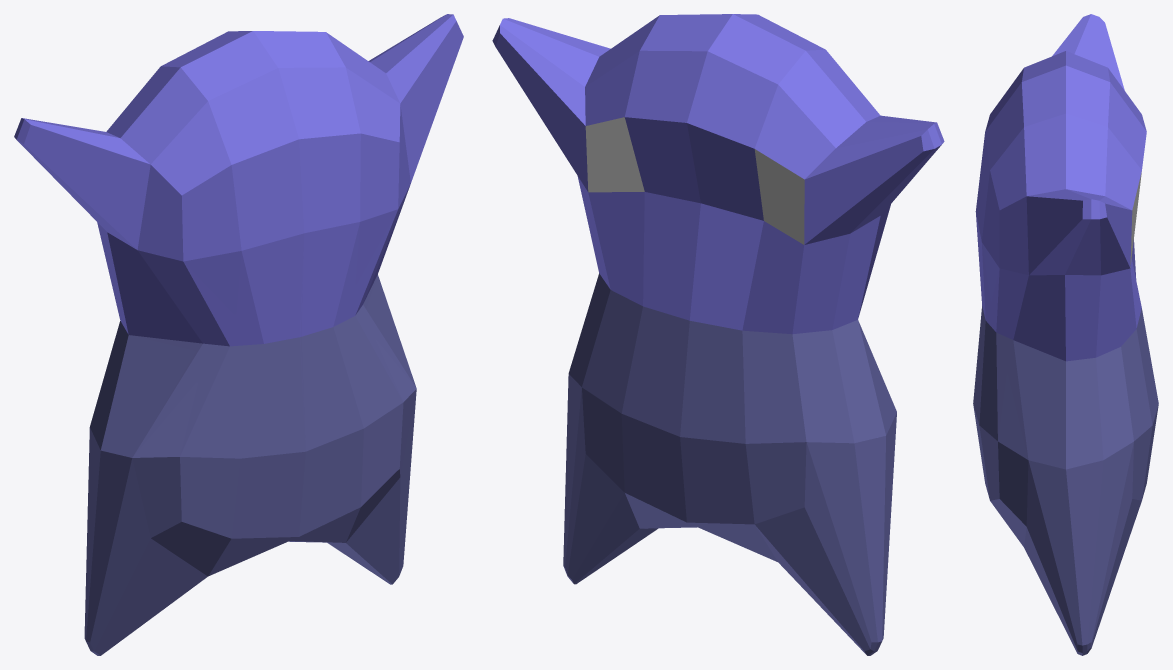
Rendered from desto.fbx.
3 views of the same model, side by side, from view 1: azimuth 30°, elevation 25°; view 2: azimuth 150°, elevation 25°; view 3: azimuth 270°, elevation 25° (orthographic). The views are drawn at different scales.
Visible parts, largest first — view 1: Cube.001; view 2: Cube.001; view 3: Cube.001.
Part boxes in pixels (x1,y1,x2,y2): Cube.001: (14,14,463,655); Cube.001: (492,14,944,655); Cube.001: (973,14,1158,655).
Bounding box in the file's own units: 19.14 × 24.52 × 7.83.
